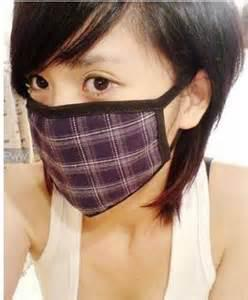OK: (24, 48, 190, 211)
